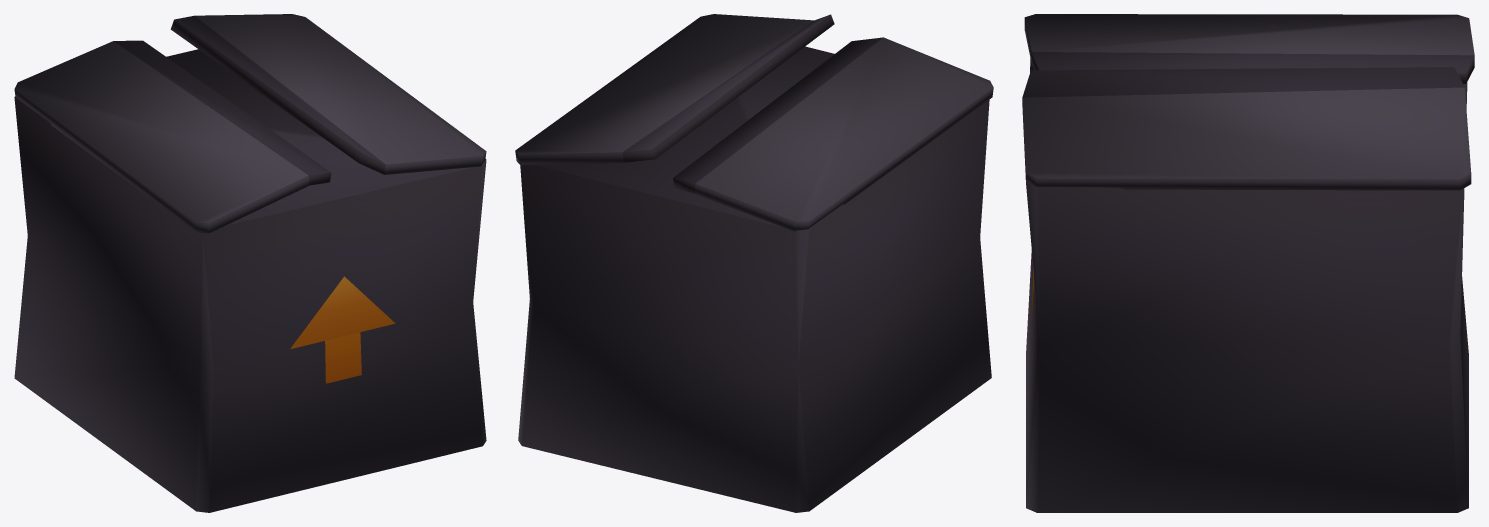
The model's file is Paper_Pack_2B.fbx.
The picture shows the model from 3 angles, left to right: view 1: azimuth 30°, elevation 25°; view 2: azimuth 150°, elevation 25°; view 3: azimuth 270°, elevation 25°; orthographic projection. The views are drawn at different scales.
Visible parts, largest first — view 1: Paper_Pack_2B; view 2: Paper_Pack_2B; view 3: Paper_Pack_2B.
Part boxes in pixels (box(x1,y1,x2,y2)): Paper_Pack_2B: box(14, 14, 486, 512); Paper_Pack_2B: box(515, 14, 993, 512); Paper_Pack_2B: box(1022, 14, 1474, 512).
Bounding box in the file's own units: 106 × 111 × 123.
